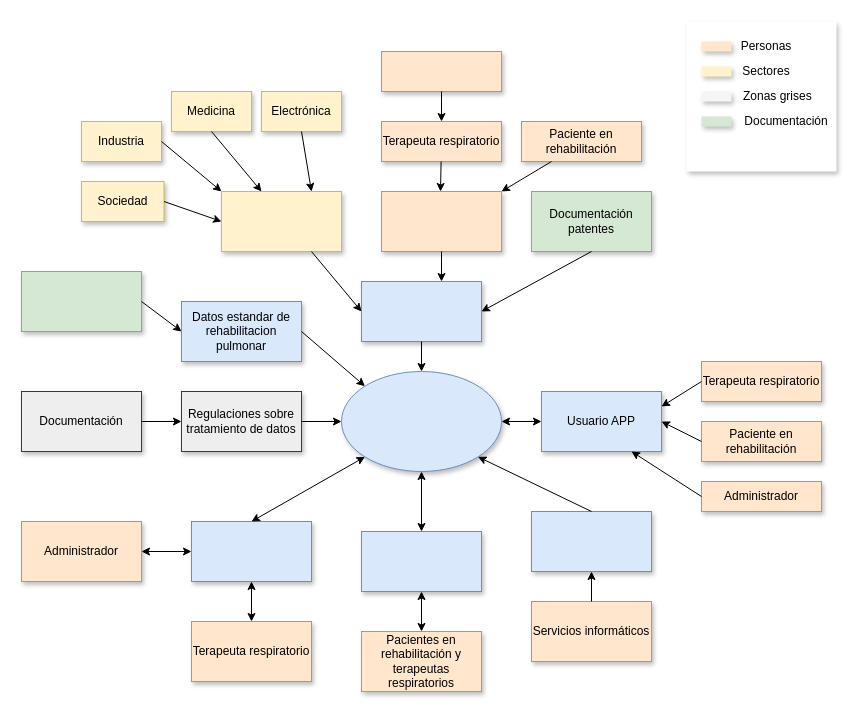
The diagram is 860 pixels wide and 716 high, and some of its shapes have lost their labels. The shapes that lost their labels are listed below. From the top down, each one's centre as x and y in pixels, then its label:
At (x=442, y=72): "Actores de salud".
At (x=282, y=222): "Sectores relacionados".
At (x=442, y=222): "Actores (aportan información)".
At (x=82, y=302): "Documentos clinicos sobre terapias respiratorias".
At (x=422, y=312): "Requisitos del sistema".
At (x=422, y=422): "Software de recuperación de capacidad pulmonar".
At (x=252, y=552): "Validar información".
At (x=422, y=562): "Expectativas de uso y sugerencias sobre funcionamiento".
At (x=592, y=542): "Recursos e información de sistemas existentes".
